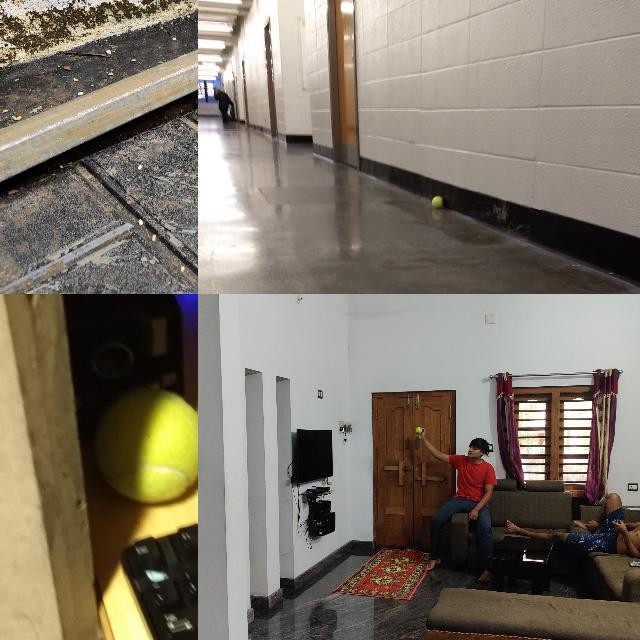tennis-ball: (94, 387, 197, 506), (432, 195, 443, 208), (415, 427, 421, 433)
